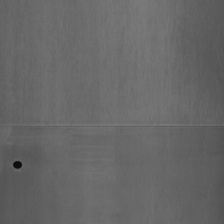punching_hole: (0, 119, 223, 134), (10, 157, 23, 172)
